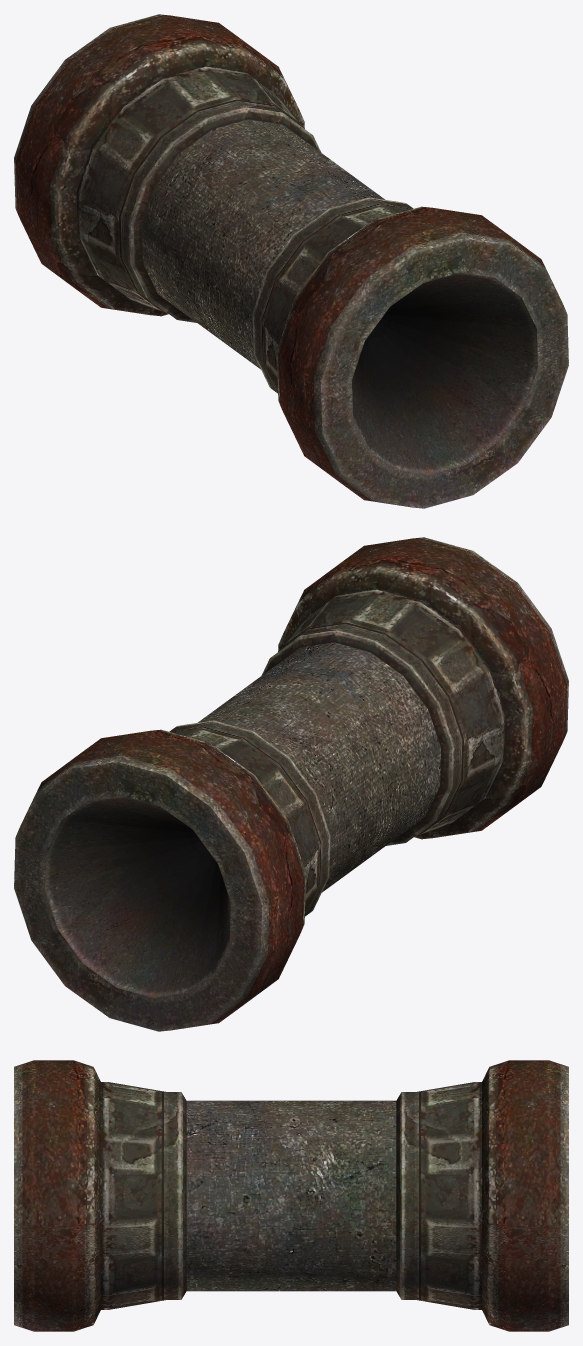
File: pipe_large_tiny_tau.dae
The picture shows the model from 3 angles, top to bottom: view 1: azimuth 30°, elevation 25°; view 2: azimuth 150°, elevation 25°; view 3: azimuth 270°, elevation 25°; orthographic projection. The views are drawn at different scales.
Visible parts, largest first — view 1: pipe_large_short_pplant; view 2: pipe_large_short_pplant; view 3: pipe_large_short_pplant.
Part boxes in pixels (x1=…): pipe_large_short_pplant: x1=14, y1=14, x2=568, y2=508; pipe_large_short_pplant: x1=14, y1=537, x2=568, y2=1031; pipe_large_short_pplant: x1=14, y1=1060, x2=568, y2=1331.
Bounding box in the file's own units: 0.4907 × 0.4907 × 1.
